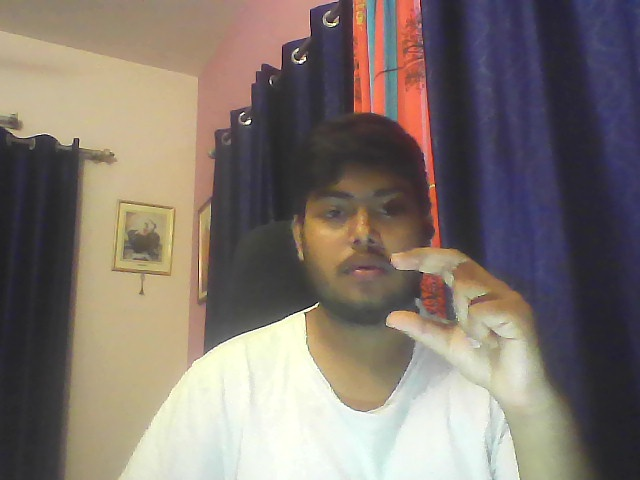No: (367, 235, 580, 395)
